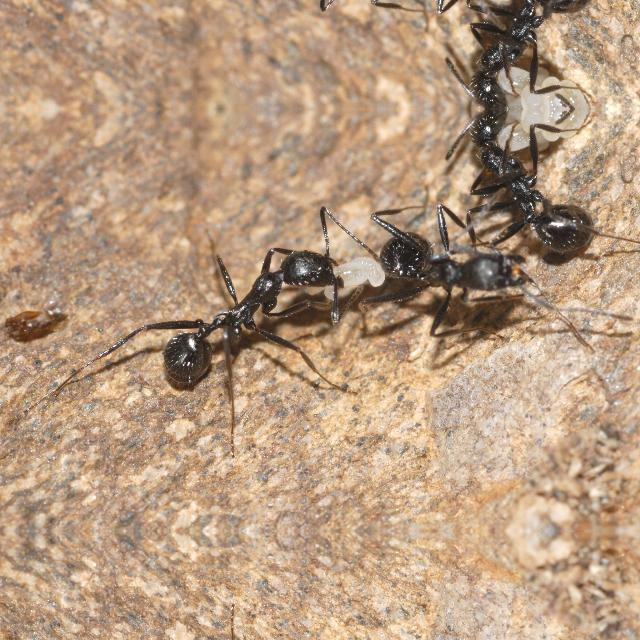Apheanogaster: (131, 226, 361, 392), (428, 110, 624, 266), (426, 0, 624, 106), (358, 215, 540, 317)
